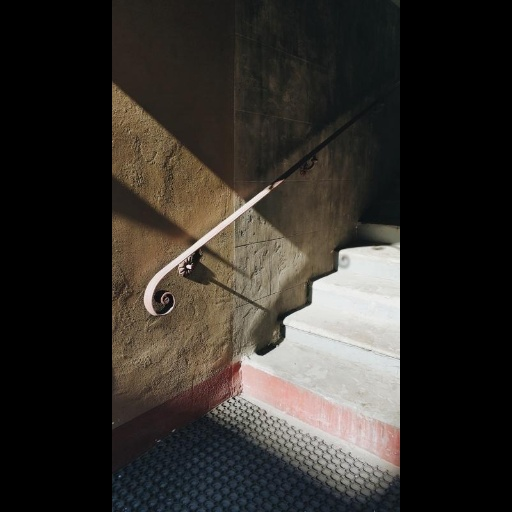Stairs: (242, 240, 400, 466)
